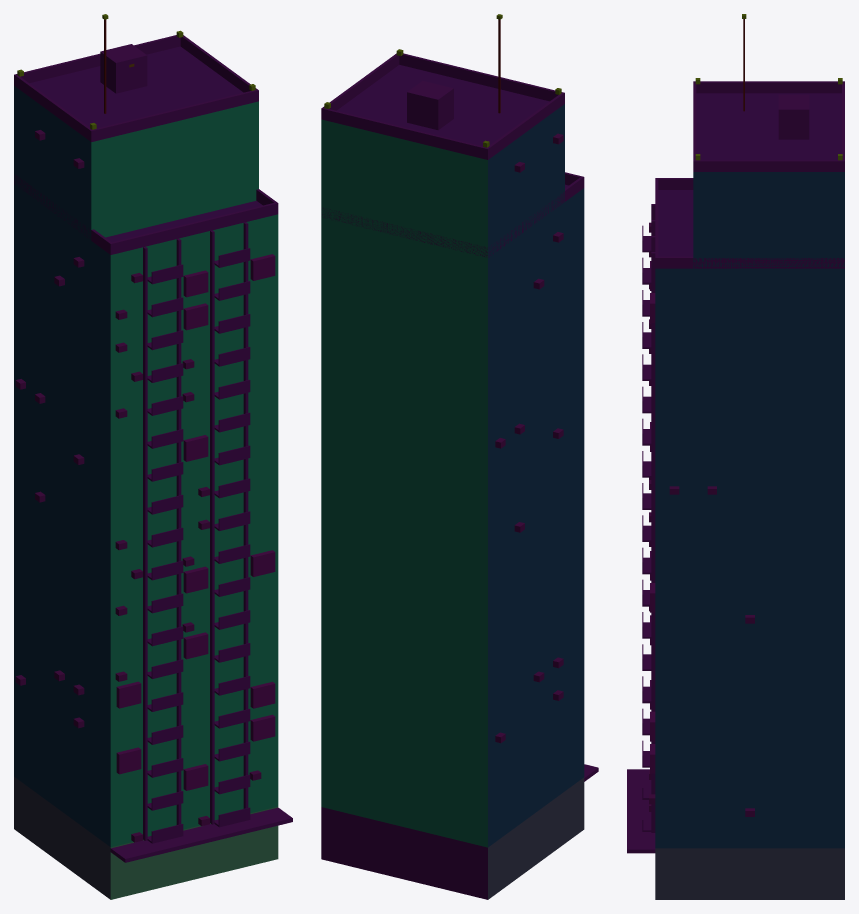
Rendered from slab_j.glb.
3 views of the same model, side by side, from view 1: azimuth 30°, elevation 25°; view 2: azimuth 150°, elevation 25°; view 3: azimuth 270°, elevation 25° (orthographic). The views are drawn at different scales.
Visible parts, largest first — view 1: slab_j; view 2: slab_j; view 3: slab_j.
Boxes of the visible parts, left/top/right/bottom form: slab_j: left=14, top=14, right=292, bottom=899; slab_j: left=321, top=14, right=598, bottom=899; slab_j: left=627, top=14, right=844, bottom=899.
Size of the model in its own units: 17.1 by 76.76 by 18.39.
